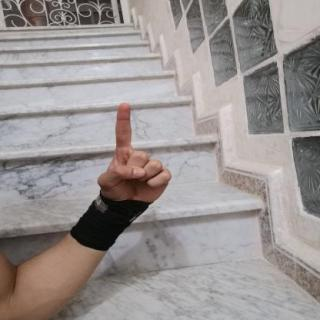BAA: (92, 96, 181, 209)
